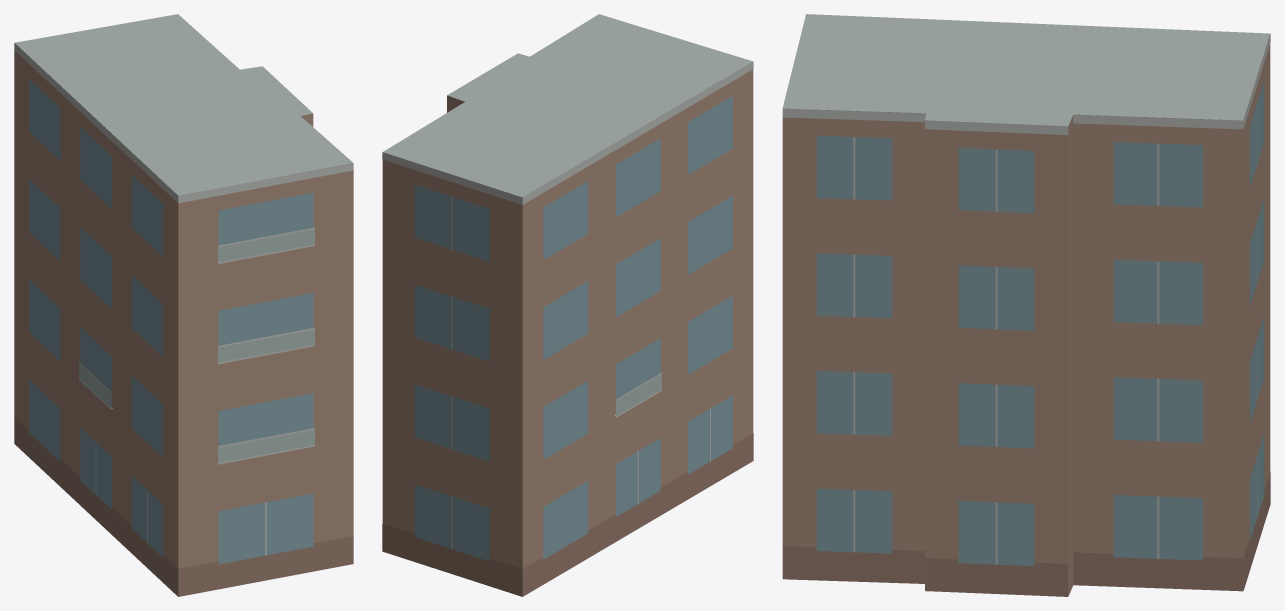
File: survey-upis-32479148.glb
3 renders of one model, left to right at view 1: azimuth 30°, elevation 25°; view 2: azimuth 150°, elevation 25°; view 3: azimuth 270°, elevation 25°, orthographic. The views are drawn at different scales.
Visible parts, largest first — view 1: survey-upis-32479148.tmp; view 2: survey-upis-32479148.tmp; view 3: survey-upis-32479148.tmp.
Part boxes in pixels (left/top/right/bottom): survey-upis-32479148.tmp: left=14, top=14, right=353, bottom=596; survey-upis-32479148.tmp: left=382, top=14, right=753, bottom=596; survey-upis-32479148.tmp: left=782, top=14, right=1270, bottom=596.
Bounding box in the file's own units: 6.61 × 12.9 × 12.13.
